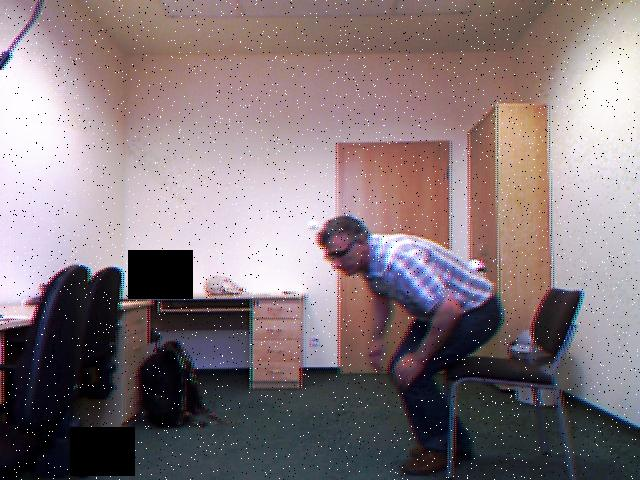near-fall: (305, 202, 510, 480)
